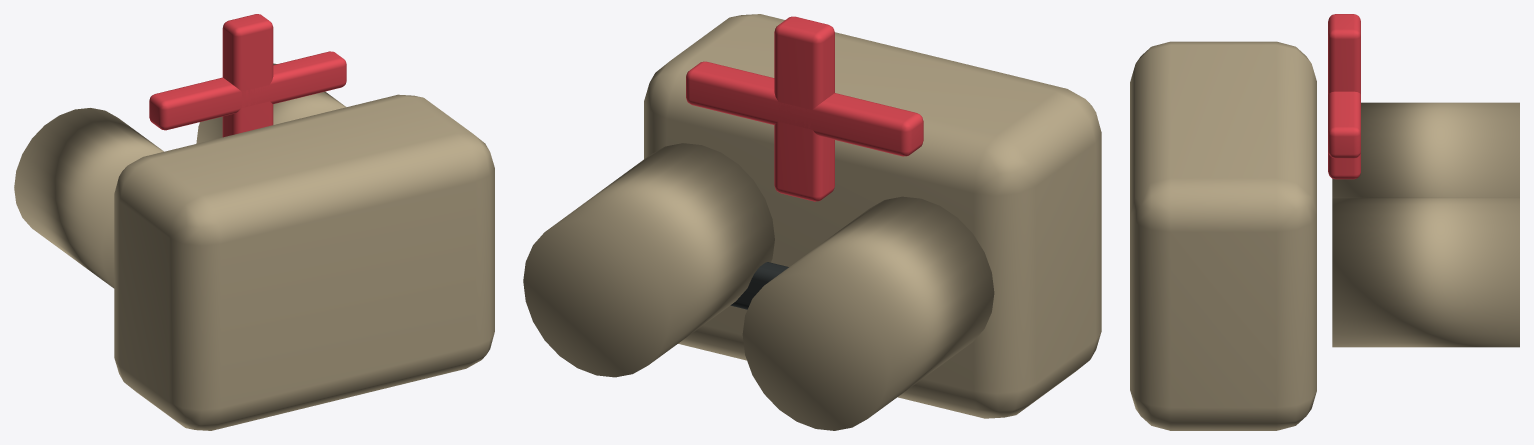
File: loot_bandage_final.glb
The picture shows the model from 3 angles, left to right: view 1: azimuth 30°, elevation 25°; view 2: azimuth 150°, elevation 25°; view 3: azimuth 270°, elevation 25°; orthographic projection. The views are drawn at different scales.
Visible parts, largest first — view 1: bandage_fabric_medical_case, rolled_bandage_-0.18, red_cross_horizontal, red_cross_vertical, rolled_bandage_0.18; view 2: bandage_fabric_medical_case, rolled_bandage_-0.18, rolled_bandage_0.18, red_cross_horizontal, red_cross_vertical, black_zipper_and_handle; view 3: bandage_fabric_medical_case, rolled_bandage_0.18, rolled_bandage_-0.18, red_cross_vertical, red_cross_horizontal.
Boxes of the visible parts, x1,y1,x2,y2 form: bandage_fabric_medical_case: [114, 94, 494, 430]; rolled_bandage_-0.18: [14, 108, 163, 288]; red_cross_horizontal: [149, 51, 346, 130]; red_cross_vertical: [222, 14, 273, 137]; rolled_bandage_0.18: [196, 63, 346, 143]; bandage_fabric_medical_case: [644, 14, 1101, 418]; rolled_bandage_-0.18: [742, 196, 994, 430]; rolled_bandage_0.18: [523, 143, 774, 377]; red_cross_horizontal: [686, 61, 923, 156]; red_cross_vertical: [774, 16, 834, 201]; black_zipper_and_handle: [730, 262, 788, 309]; bandage_fabric_medical_case: [1130, 41, 1316, 430]; rolled_bandage_0.18: [1332, 197, 1519, 347]; rolled_bandage_-0.18: [1332, 102, 1519, 197]; red_cross_vertical: [1328, 14, 1360, 179]; red_cross_horizontal: [1328, 91, 1360, 158].
Size of the model in its own units: 0.6336 by 0.5984 by 0.6236.
